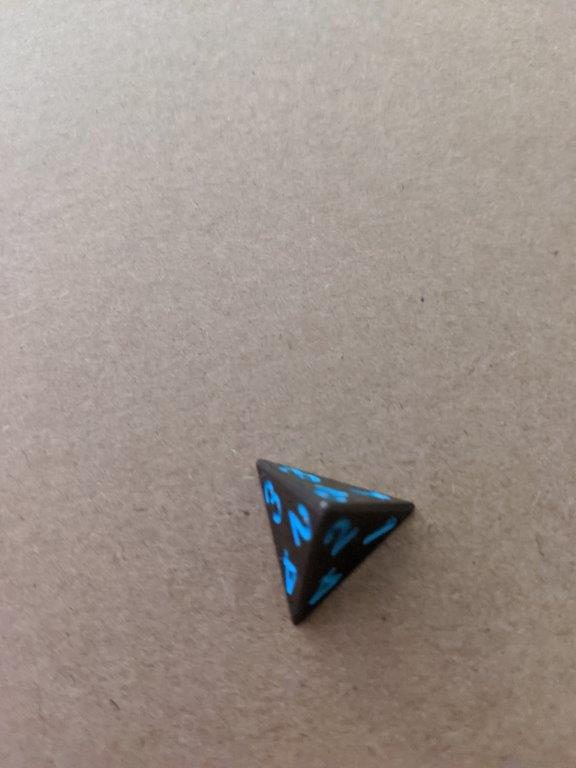d4-2: (253, 457, 417, 626)
